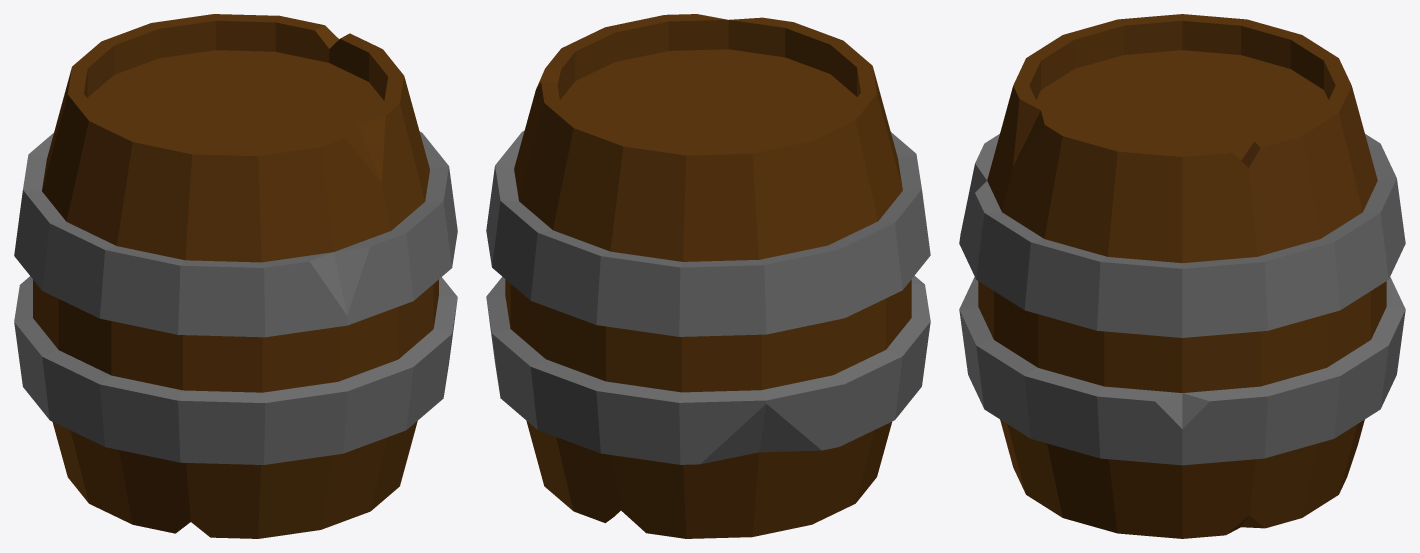
Rendered from barrel.fbx.
3 views of the same model, side by side, from view 1: azimuth 30°, elevation 25°; view 2: azimuth 150°, elevation 25°; view 3: azimuth 270°, elevation 25° (orthographic).
Parts seen in each view (by area): view 1: Cylinder.001; view 2: Cylinder.001; view 3: Cylinder.001.
Part boxes in pixels (left/top/right/bottom): Cylinder.001: left=14, top=14, right=457, bottom=538; Cylinder.001: left=486, top=14, right=930, bottom=538; Cylinder.001: left=959, top=14, right=1405, bottom=538.
Size of the model in its own units: 814 by 768 by 814.
